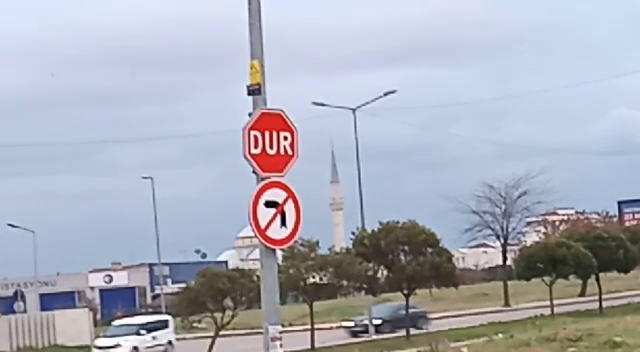no_left: (245, 177, 304, 251)
stop: (239, 106, 301, 180)
